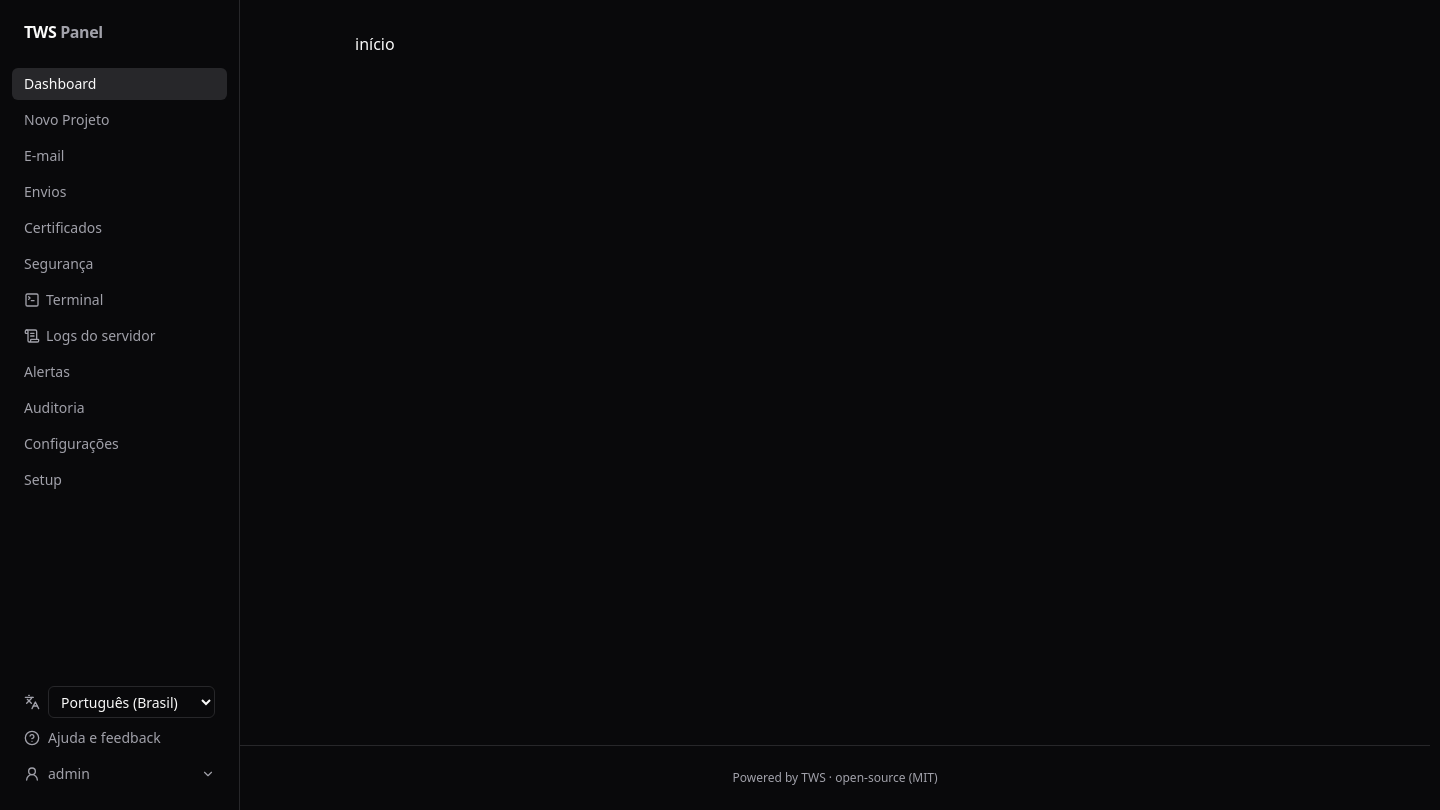
Scenario: menu › o item Terminal existe e leva para /terminal
This screenshot has width=1440, height=810.
What coordinates should you click on to do the following:
click the link "Terminal"
I would click on:
 (64, 300)
Its box is [24, 290, 103, 309].
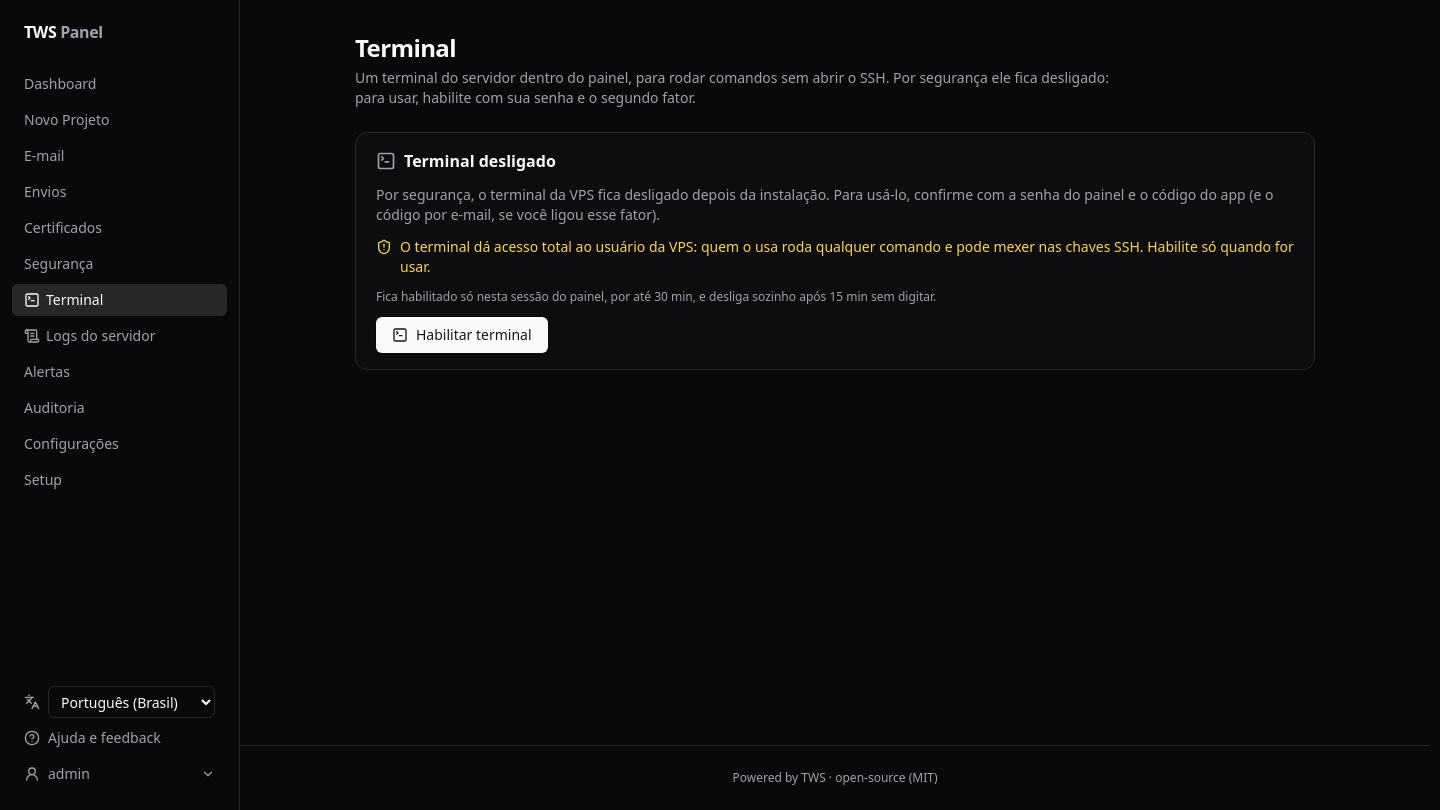
Expected: the heading "Terminal desligado" is shown, [376, 150, 556, 172]
